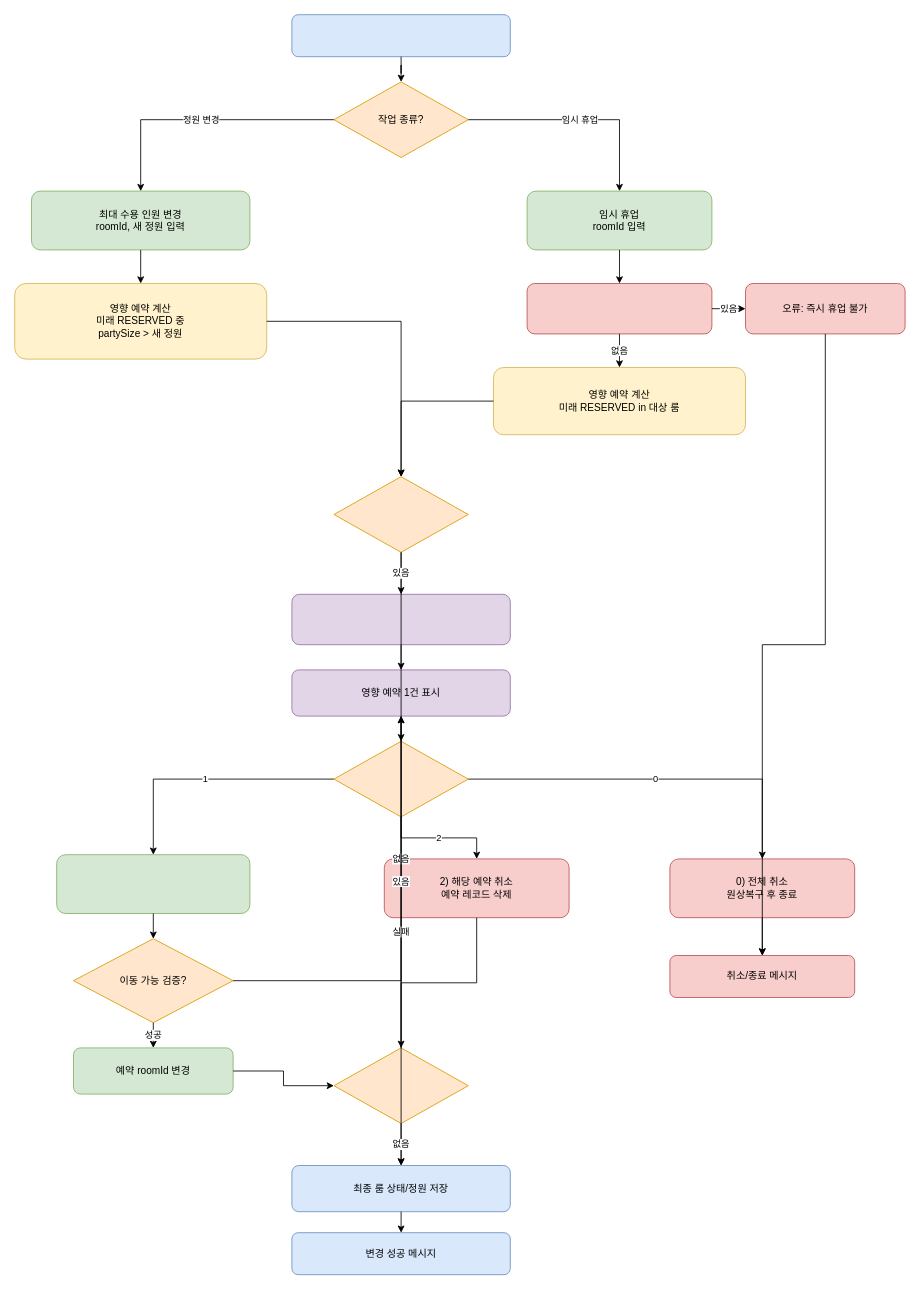
Image size: 920x1289. Some labels were removed from this diagram. The shapes that lost their labels are listed below. From the top down, each one's box as (x1, y1, x2, y2) in pixels, then its label:
(291, 14, 510, 57): 관리자: 룸 컨디션 관리 진입
(526, 283, 712, 334): CHECKED_IN 존재 검사
(333, 476, 468, 552): 영향 예약 존재?
(291, 593, 510, 645): 영향 예약 처리 루프 시작
(333, 740, 468, 817): 관리자 선택?
(56, 854, 250, 914): 1) 다른 룸 이동 대상 룸 ID 입력
(333, 1047, 468, 1124): 남은 영향 예약?
